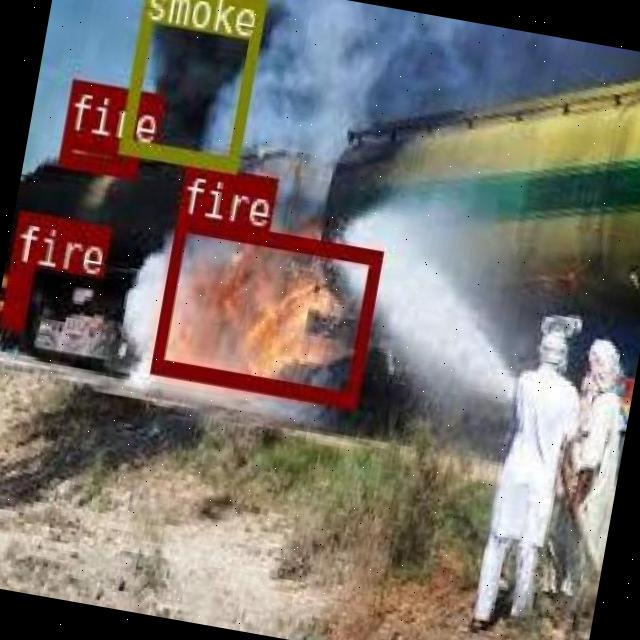fire: (148, 213, 380, 405), (55, 127, 138, 174), (0, 261, 32, 324)
smoke: (118, 0, 267, 169)
